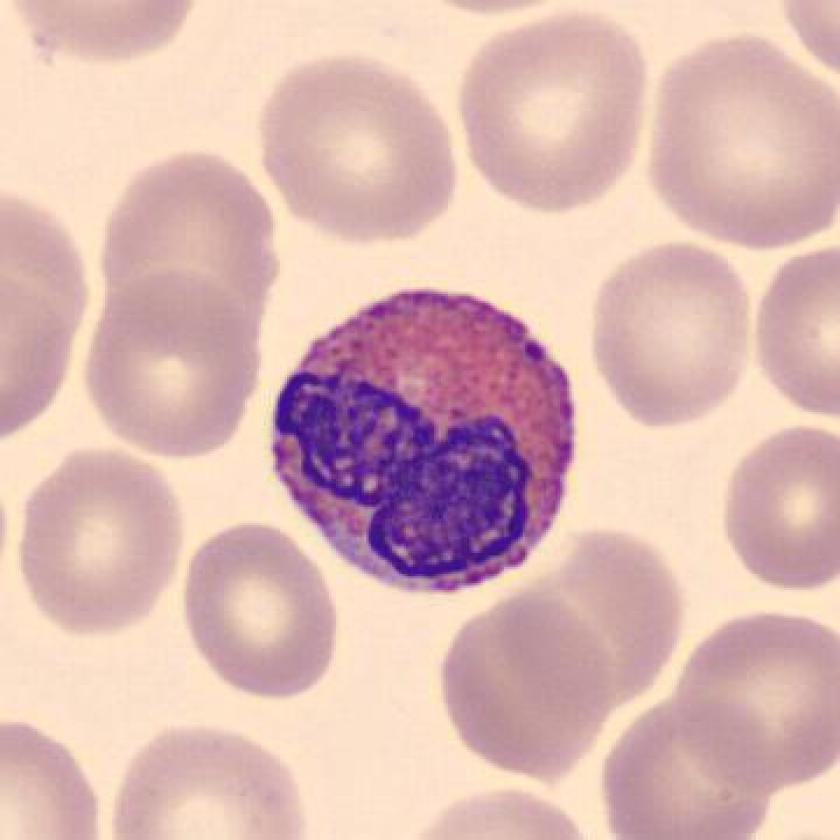eosinophil: (258, 279, 596, 612)
